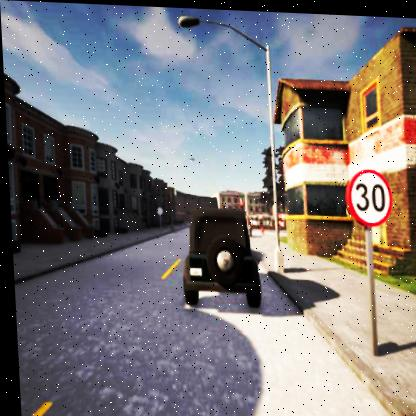vehicle: (177, 203, 260, 308)
